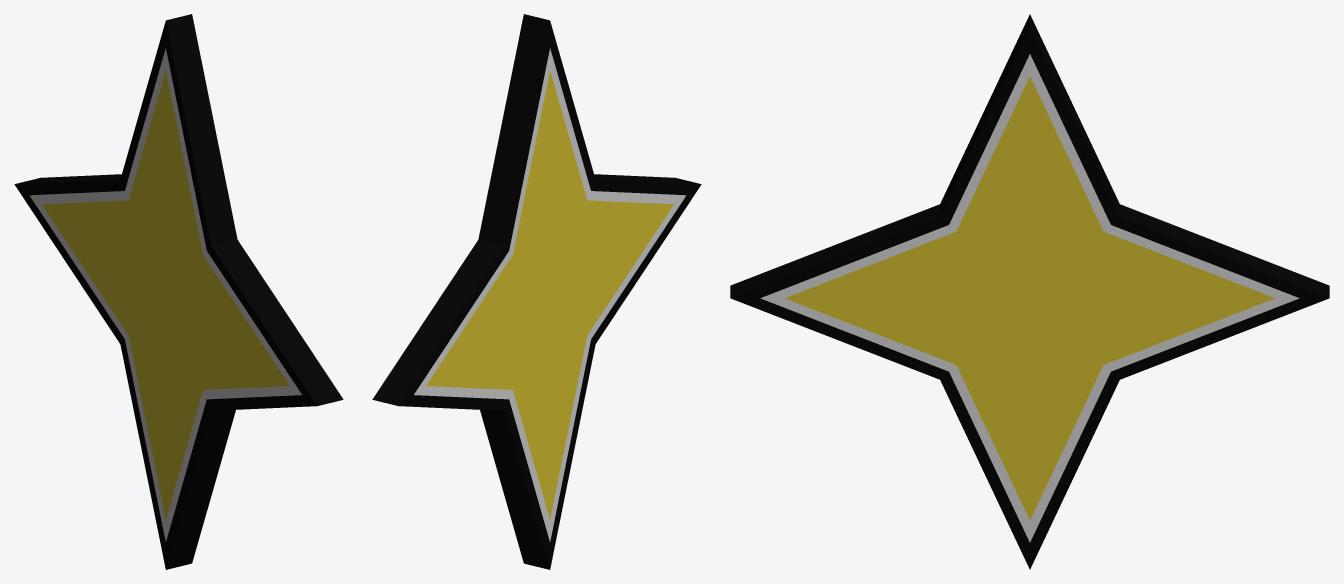
Rendered from DecoMur1.fbx.
The picture shows the model from 3 angles, left to right: view 1: azimuth 30°, elevation 25°; view 2: azimuth 150°, elevation 25°; view 3: azimuth 270°, elevation 25°; orthographic projection.
Visible parts, largest first — view 1: SparkleShape; view 2: SparkleShape; view 3: SparkleShape.
Part boxes in pixels (bbox=[...]): SparkleShape: bbox=[14, 14, 343, 569]; SparkleShape: bbox=[372, 14, 701, 569]; SparkleShape: bbox=[730, 14, 1329, 569].
Size of the model in its own units: 0.1 by 2 by 2.
